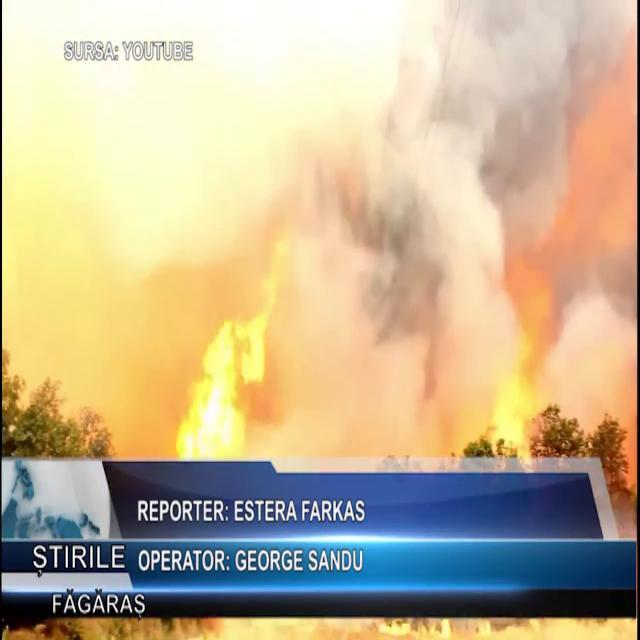Fire: (170, 218, 304, 458)
Smoke: (275, 0, 636, 443)
